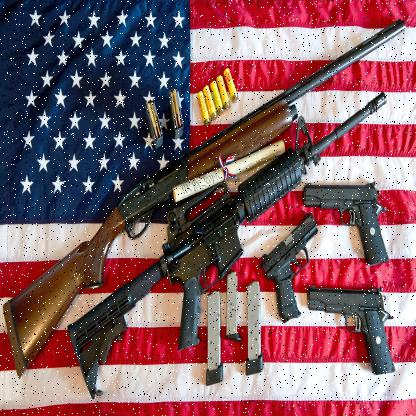pistol: (306, 285, 397, 374), (302, 182, 389, 265), (259, 212, 317, 323)
